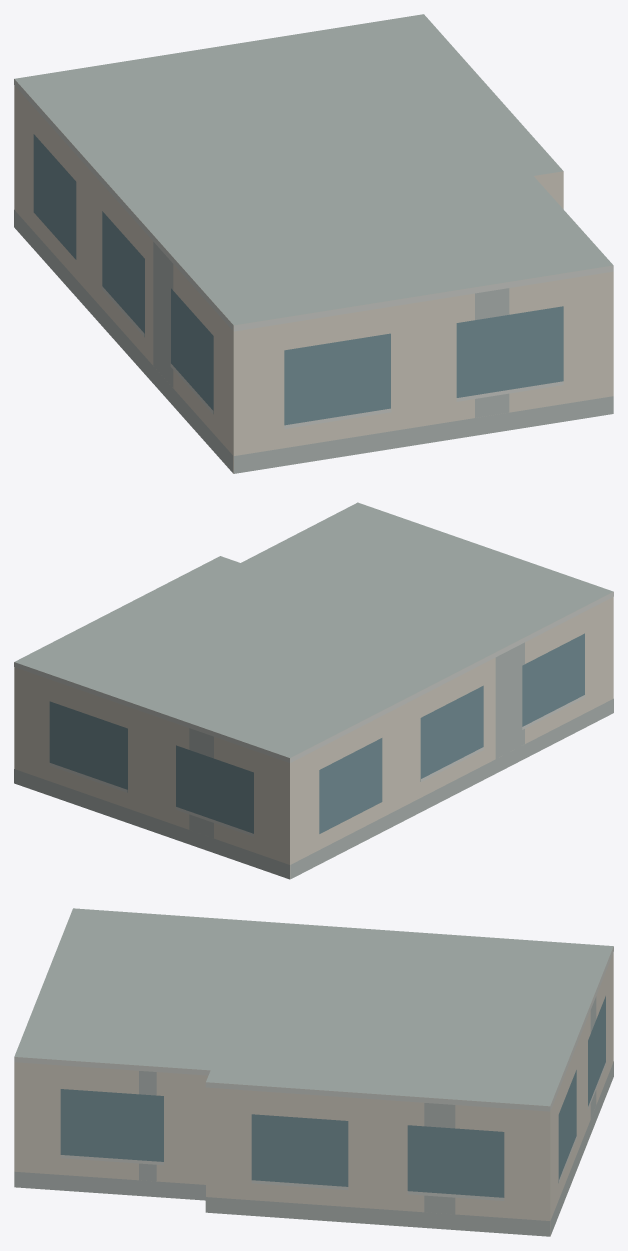
File: residential-b46d3888-f693-495e-9235-dea180f6a7a2.glb
The picture shows the model from 3 angles, top to bottom: view 1: azimuth 30°, elevation 25°; view 2: azimuth 150°, elevation 25°; view 3: azimuth 270°, elevation 25°; orthographic projection. The views are drawn at different scales.
Visible parts, largest first — view 1: residential-b46d3888-f693-495e-9235-dea180f6a7a2.tmp; view 2: residential-b46d3888-f693-495e-9235-dea180f6a7a2.tmp; view 3: residential-b46d3888-f693-495e-9235-dea180f6a7a2.tmp.
Boxes of the visible parts, x1,y1,x2,y2 form: residential-b46d3888-f693-495e-9235-dea180f6a7a2.tmp: [14, 14, 613, 473]; residential-b46d3888-f693-495e-9235-dea180f6a7a2.tmp: [14, 502, 613, 879]; residential-b46d3888-f693-495e-9235-dea180f6a7a2.tmp: [14, 908, 613, 1236].
Bounding box in the file's own units: 9.95 × 3.05 × 12.72.
